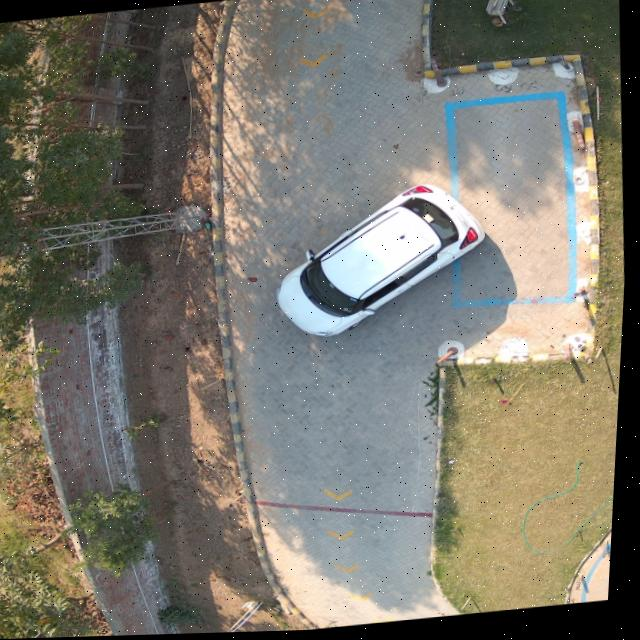car: (281, 188, 488, 338)
